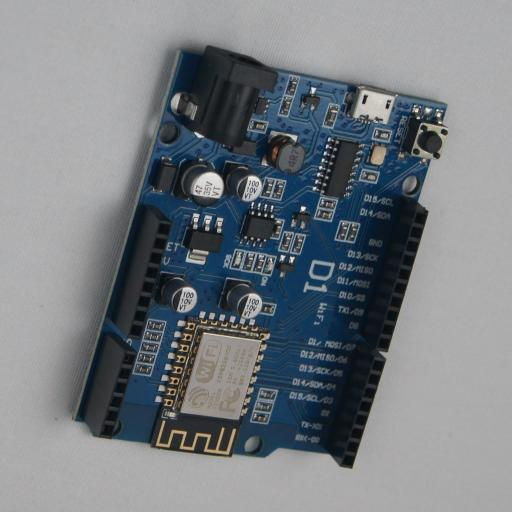Arduino Uno WiFi Shield: (67, 44, 447, 468)
